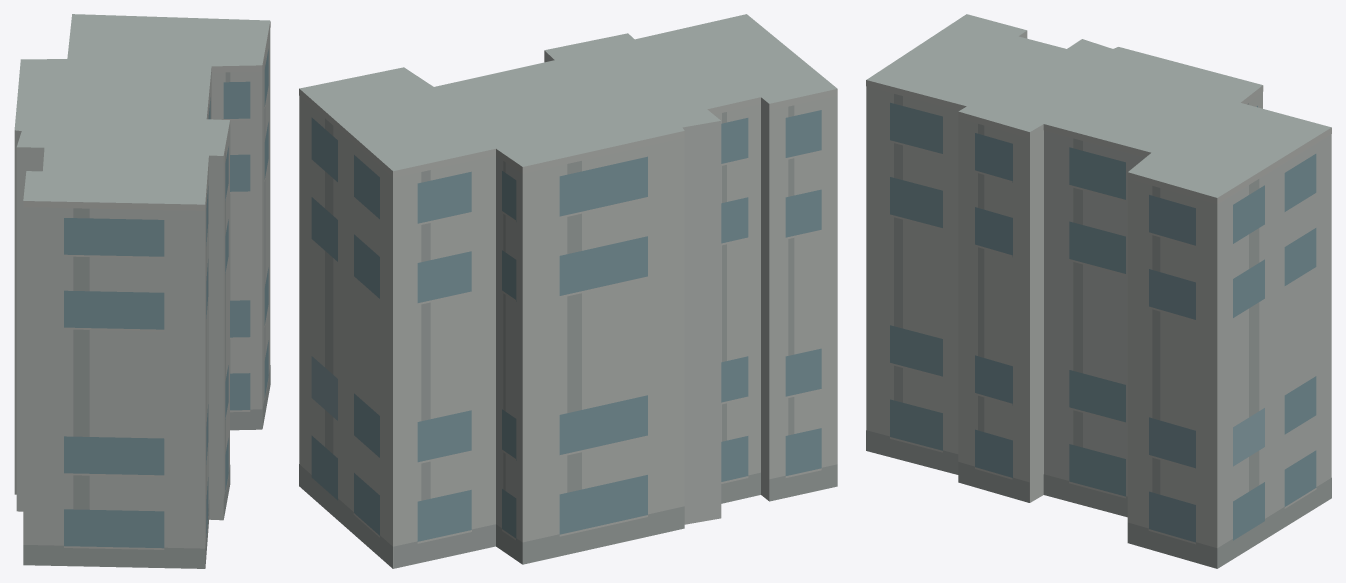
The model's file is survey-upis-32999927.glb.
3 renders of one model, left to right at view 1: azimuth 30°, elevation 25°; view 2: azimuth 150°, elevation 25°; view 3: azimuth 270°, elevation 25°, orthographic. The views are drawn at different scales.
Visible parts, largest first — view 1: survey-upis-32999927.tmp; view 2: survey-upis-32999927.tmp; view 3: survey-upis-32999927.tmp.
Part boxes in pixels (x1=…): survey-upis-32999927.tmp: x1=14, y1=14, x2=270, y2=568; survey-upis-32999927.tmp: x1=299, y1=14, x2=837, y2=568; survey-upis-32999927.tmp: x1=866, y1=14, x2=1331, y2=568.
Bounding box in the file's own units: 14.79 × 13.9 × 15.82.
